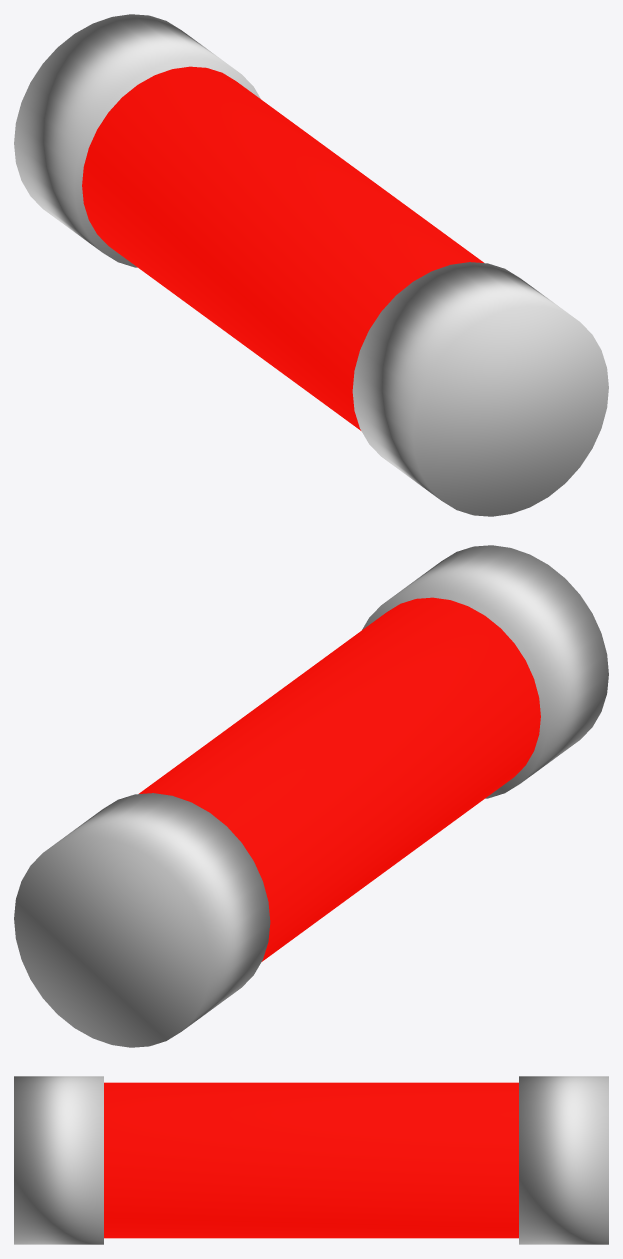
The model's file is fuze.glb.
3 renders of one model, top to bottom at view 1: azimuth 30°, elevation 25°; view 2: azimuth 150°, elevation 25°; view 3: azimuth 270°, elevation 25°, orthographic. The views are drawn at different scales.
Parts seen in each view (by area): view 1: Cylinder, Cylinder.002, Cylinder.001; view 2: Cylinder, Cylinder.001, Cylinder.002; view 3: Cylinder, Cylinder.001, Cylinder.002.
Part boxes in pixels (bbox=[...]): Cylinder: bbox=[82, 66, 483, 430]; Cylinder.002: bbox=[352, 262, 608, 516]; Cylinder.001: bbox=[14, 14, 260, 267]; Cylinder: bbox=[139, 597, 540, 961]; Cylinder.001: bbox=[14, 793, 270, 1047]; Cylinder.002: bbox=[362, 545, 608, 798]; Cylinder: bbox=[104, 1082, 518, 1238]; Cylinder.001: bbox=[519, 1076, 608, 1244]; Cylinder.002: bbox=[14, 1076, 103, 1244].
Bounding box in the file's own units: 2.17 × 2.17 × 7.65.
